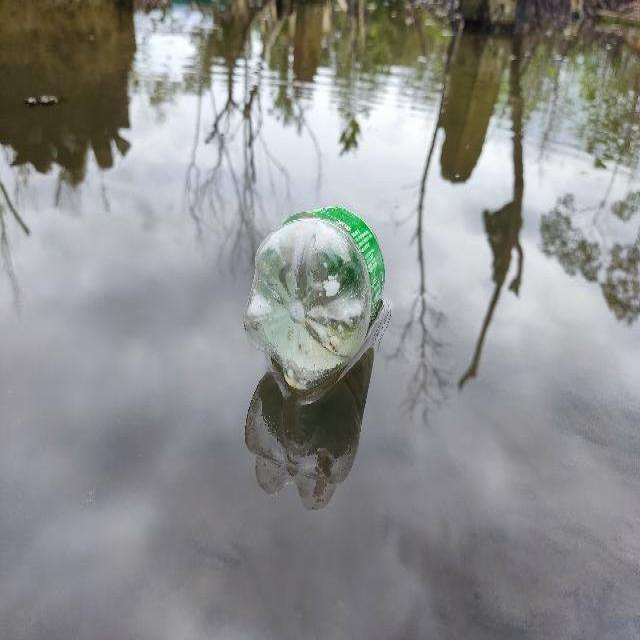Bottle: (238, 193, 404, 414)
